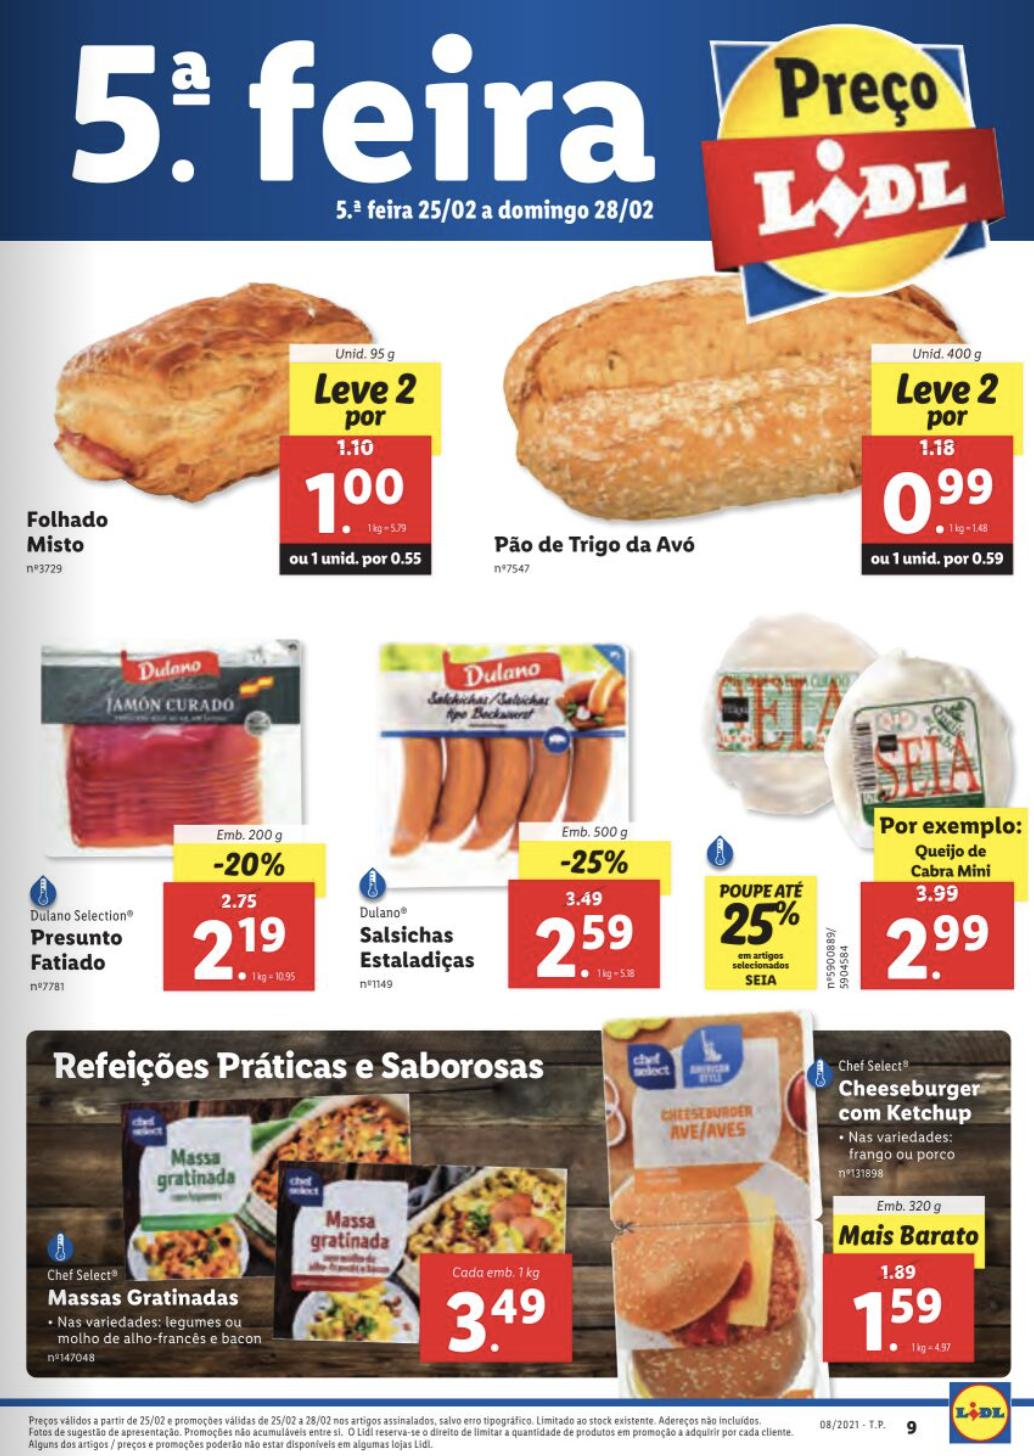name: (837, 1075, 987, 1127), (493, 529, 701, 563), (355, 922, 485, 973), (46, 1283, 247, 1312), (20, 505, 117, 560), (27, 926, 124, 980)
price: (289, 462, 426, 542), (875, 460, 1000, 543), (882, 907, 1002, 992), (532, 909, 649, 992), (187, 911, 305, 992), (846, 1283, 966, 1362), (440, 1283, 553, 1360)
product: (474, 254, 1022, 583), (47, 1089, 577, 1396), (582, 1040, 1017, 1405), (2, 252, 453, 600), (675, 583, 1022, 1001), (11, 618, 335, 1023), (335, 618, 675, 1001)
promotion: (715, 896, 803, 947), (207, 847, 295, 883), (555, 843, 633, 882)
